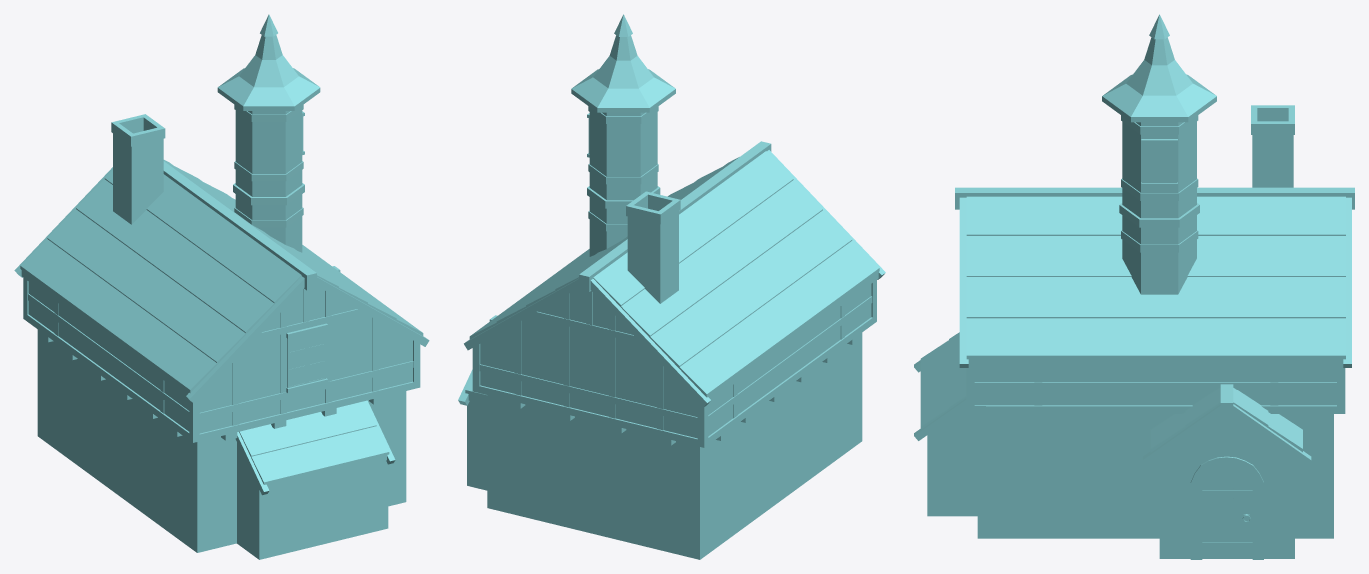
Rendered from Mega_Asset_s_Pack_Cube_603.FBX.
3 views of the same model, side by side, from view 1: azimuth 30°, elevation 25°; view 2: azimuth 150°, elevation 25°; view 3: azimuth 270°, elevation 25° (orthographic). The views are drawn at different scales.
Parts seen in each view (by area): view 1: Mega_Asset_s_Pack_Cube_603; view 2: Mega_Asset_s_Pack_Cube_603; view 3: Mega_Asset_s_Pack_Cube_603.
Part boxes in pixels (x1,y1,x2,y2): Mega_Asset_s_Pack_Cube_603: [14, 14, 429, 559]; Mega_Asset_s_Pack_Cube_603: [458, 14, 885, 559]; Mega_Asset_s_Pack_Cube_603: [914, 14, 1354, 559].
Size of what is drawn, in the model's own units: 1353 by 1730 by 2141.
